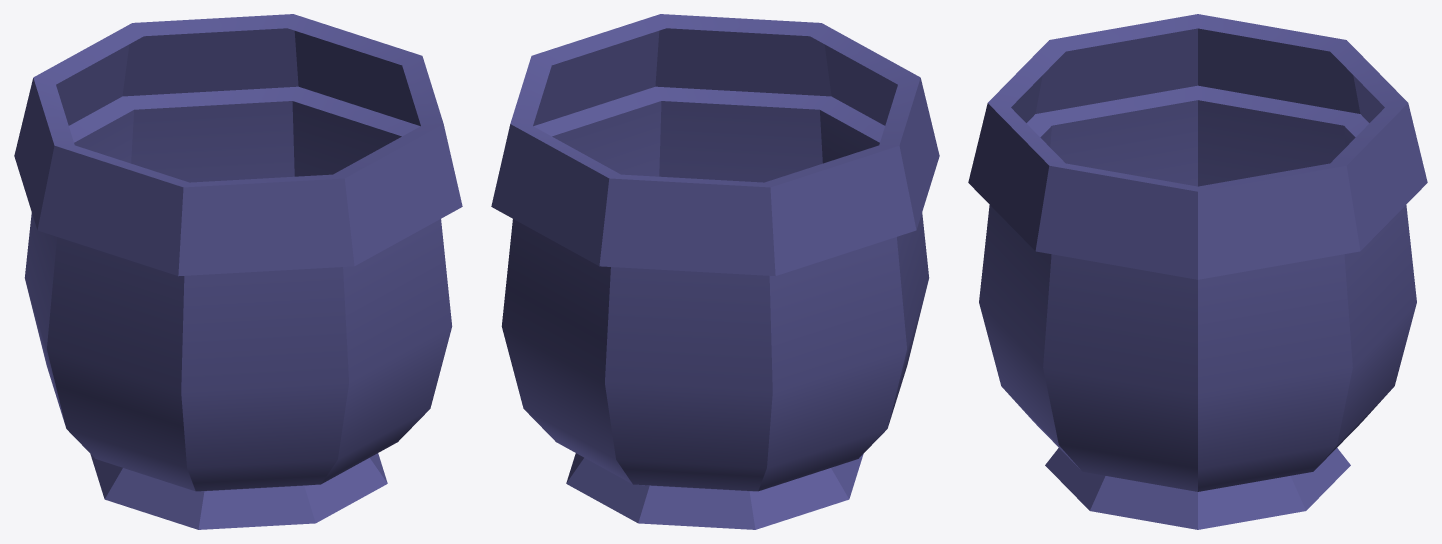
File: cauldron.fbx
3 views of the same model, side by side, from view 1: azimuth 30°, elevation 25°; view 2: azimuth 150°, elevation 25°; view 3: azimuth 270°, elevation 25° (orthographic).
Visible parts, largest first — view 1: cauldron; view 2: cauldron; view 3: cauldron.
Part boxes in pixels (x1,y1,x2,y2): cauldron: (14,14,462,529); cauldron: (491,14,939,529); cauldron: (968,14,1427,529).
Size of the model in its own units: 30.84 by 26.84 by 30.84.
